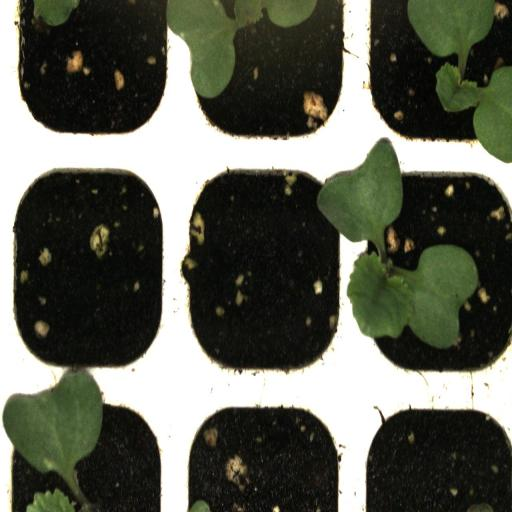noseedling: (4, 157, 176, 383), (179, 160, 350, 382)
seedling: (348, 159, 512, 384), (180, 0, 346, 153), (354, 0, 511, 157)
